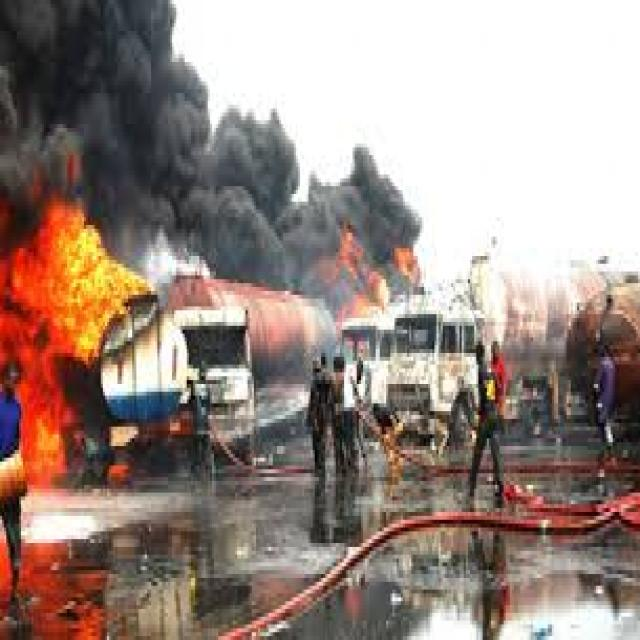fire: (2, 209, 153, 489)
smoke: (2, 4, 426, 209), (155, 213, 430, 299)
